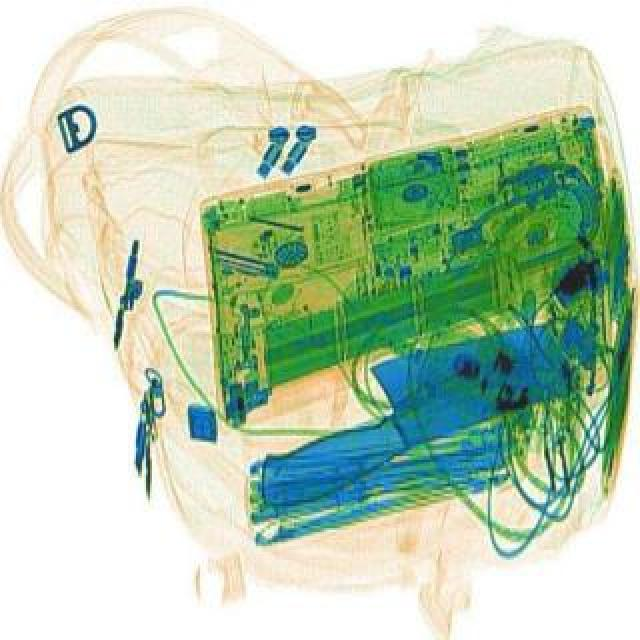knife: (230, 298, 590, 522)
